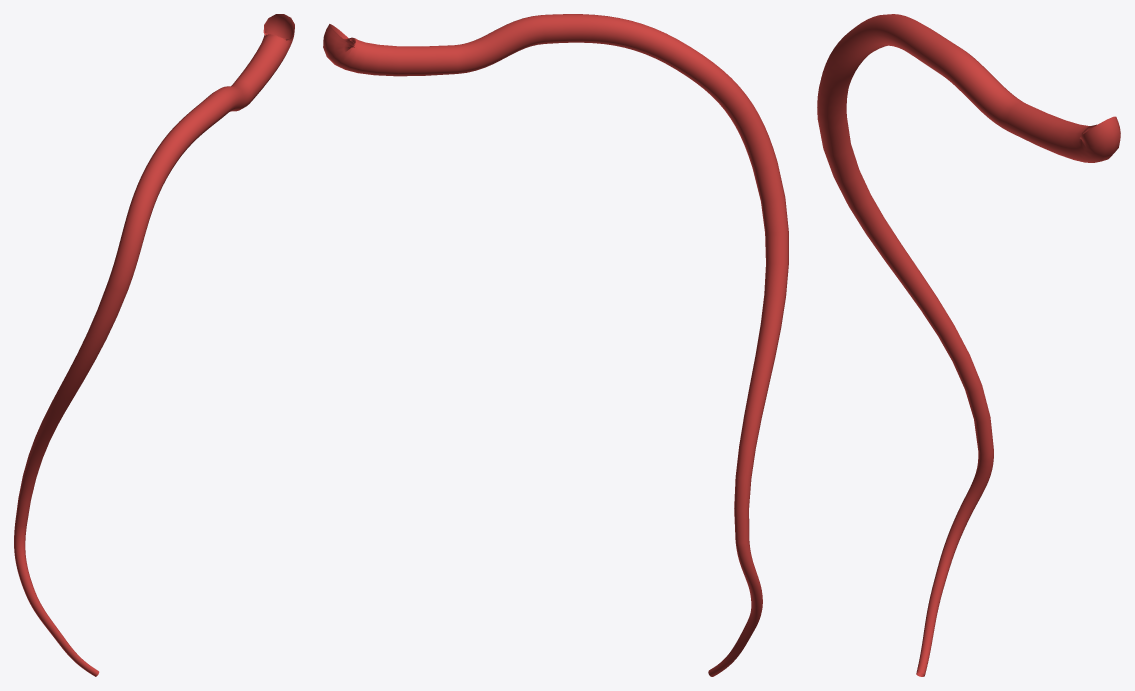
3 views of the same model, side by side, from view 1: azimuth 30°, elevation 25°; view 2: azimuth 150°, elevation 25°; view 3: azimuth 270°, elevation 25° (orthographic). The views are drawn at different scales.
Parts seen in each view (by area): view 1: 右侧膝下外侧动脉; view 2: 右侧膝下外侧动脉; view 3: 右侧膝下外侧动脉.
Boxes of the visible parts, box(x1,y1,x2,y2) form: 右侧膝下外侧动脉: box(14, 14, 294, 676); 右侧膝下外侧动脉: box(323, 14, 788, 676); 右侧膝下外侧动脉: box(817, 14, 1120, 676).
Size of the model in its own units: 0.0645 by 0.1044 by 0.0396.
